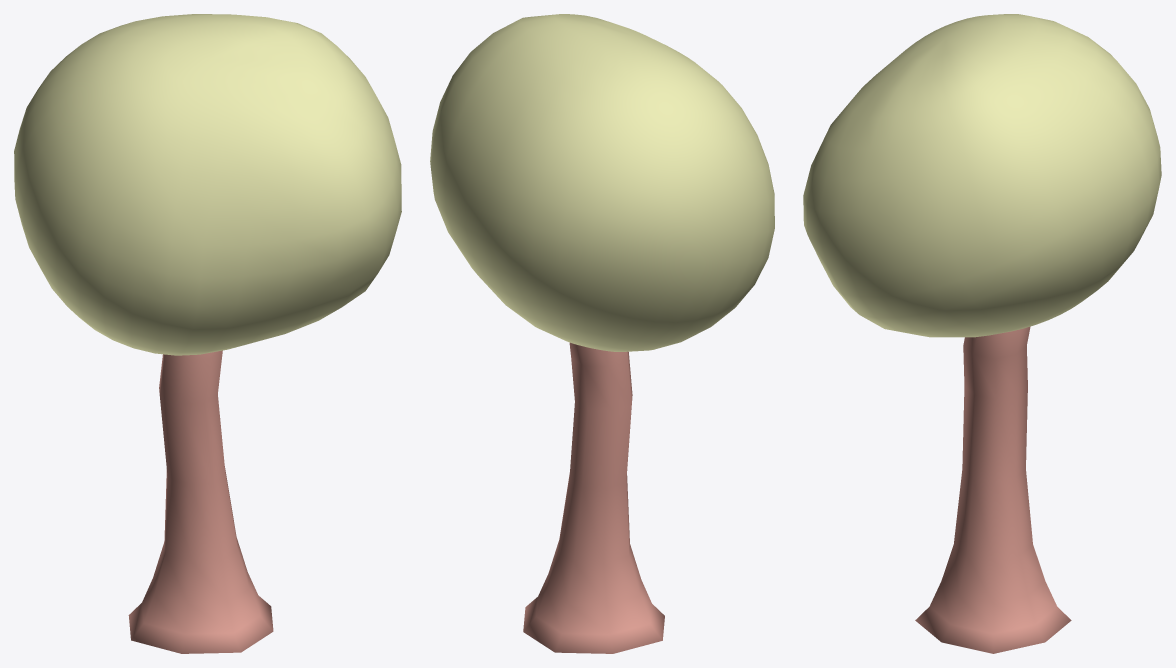
File: Tree.fbx
3 views of the same model, side by side, from view 1: azimuth 30°, elevation 25°; view 2: azimuth 150°, elevation 25°; view 3: azimuth 270°, elevation 25° (orthographic). The views are drawn at different scales.
Visible parts, largest first — view 1: Sphere.002, Cube.005; view 2: Sphere.002, Cube.005; view 3: Sphere.002, Cube.005.
Boxes of the visible parts, left/top/right/bottom form: Sphere.002: left=14, top=14, right=401, bottom=355; Cube.005: left=128, top=350, right=273, bottom=653; Sphere.002: left=430, top=14, right=774, bottom=351; Cube.005: left=523, top=342, right=664, bottom=653; Sphere.002: left=803, top=14, right=1161, bottom=337; Cube.005: left=915, top=326, right=1071, bottom=653.
Size of the model in its own units: 471 by 826 by 459.
